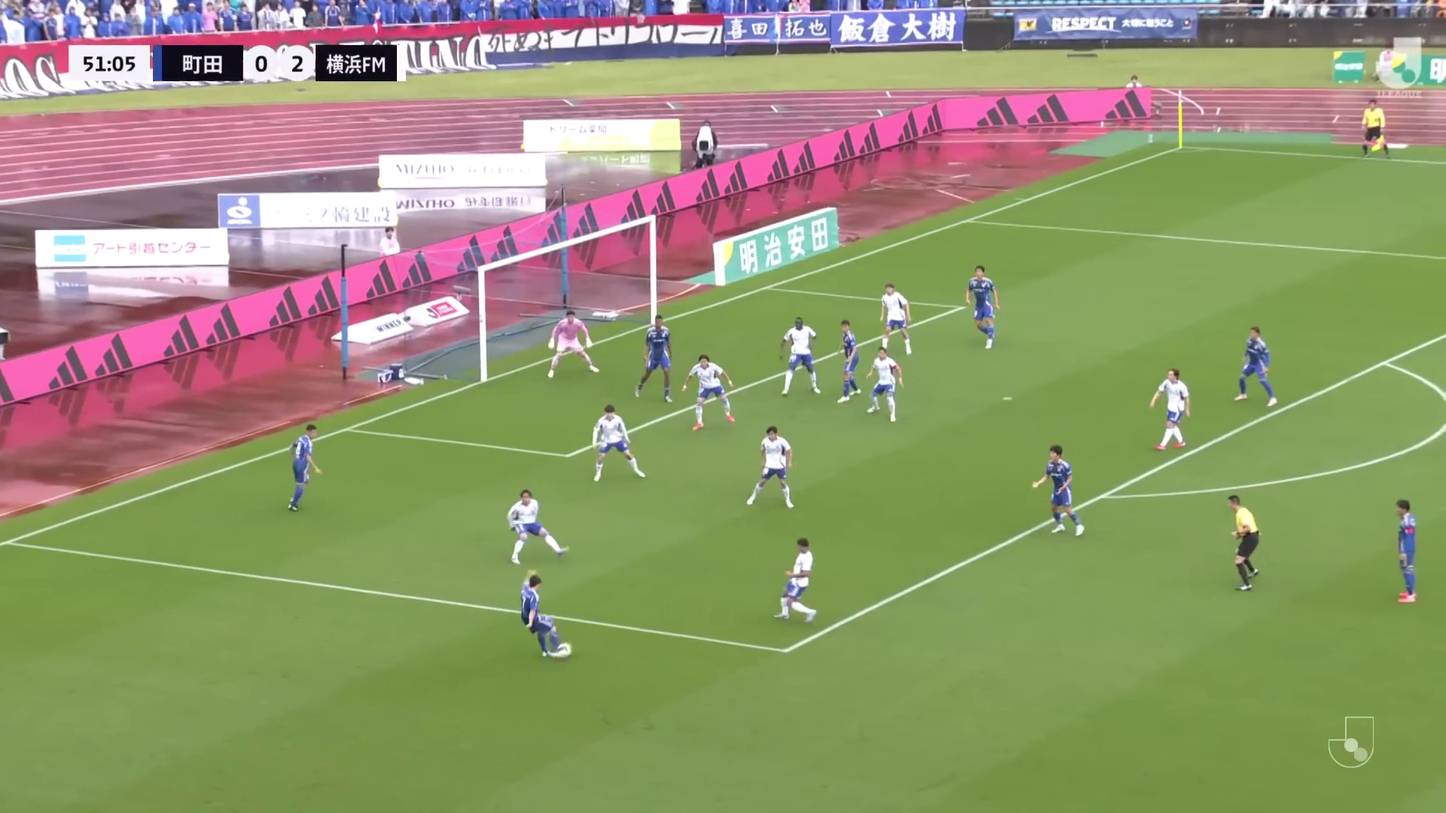ball: (555, 640, 577, 660)
player: (1030, 443, 1087, 539), (517, 573, 575, 663), (588, 403, 648, 484), (505, 489, 568, 566), (744, 424, 799, 511), (682, 353, 738, 431), (772, 536, 820, 626), (776, 316, 825, 399), (1231, 325, 1280, 408), (543, 309, 600, 380), (632, 315, 677, 404), (1148, 368, 1195, 452), (282, 423, 325, 513), (962, 265, 1004, 351), (1390, 498, 1423, 603), (862, 348, 905, 423), (876, 282, 916, 355), (834, 318, 865, 404)
referee: (1224, 493, 1266, 593), (1359, 100, 1393, 161)
